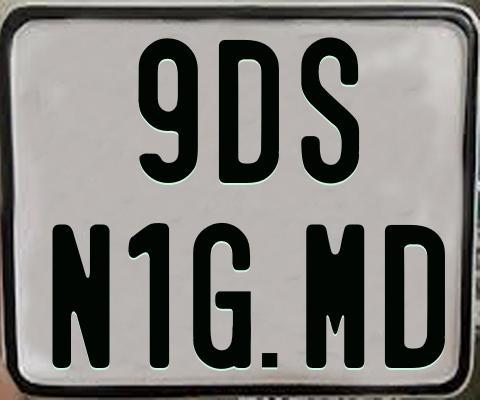1: (125, 222, 168, 371)
9: (138, 36, 199, 187)
D: (216, 39, 280, 187), (382, 225, 446, 371)
G: (190, 222, 254, 368)
M: (305, 221, 366, 368)
N: (51, 224, 111, 373)
S: (301, 36, 362, 188)
